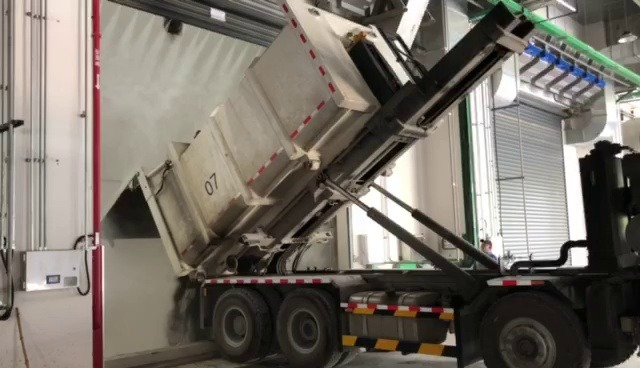dust: (101, 71, 224, 181), (108, 243, 169, 347)
truck: (136, 2, 639, 368)
